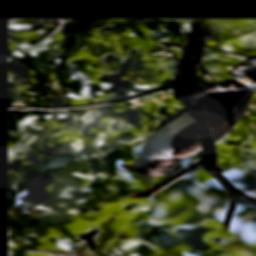Cuckoo: (118, 37, 256, 178)
